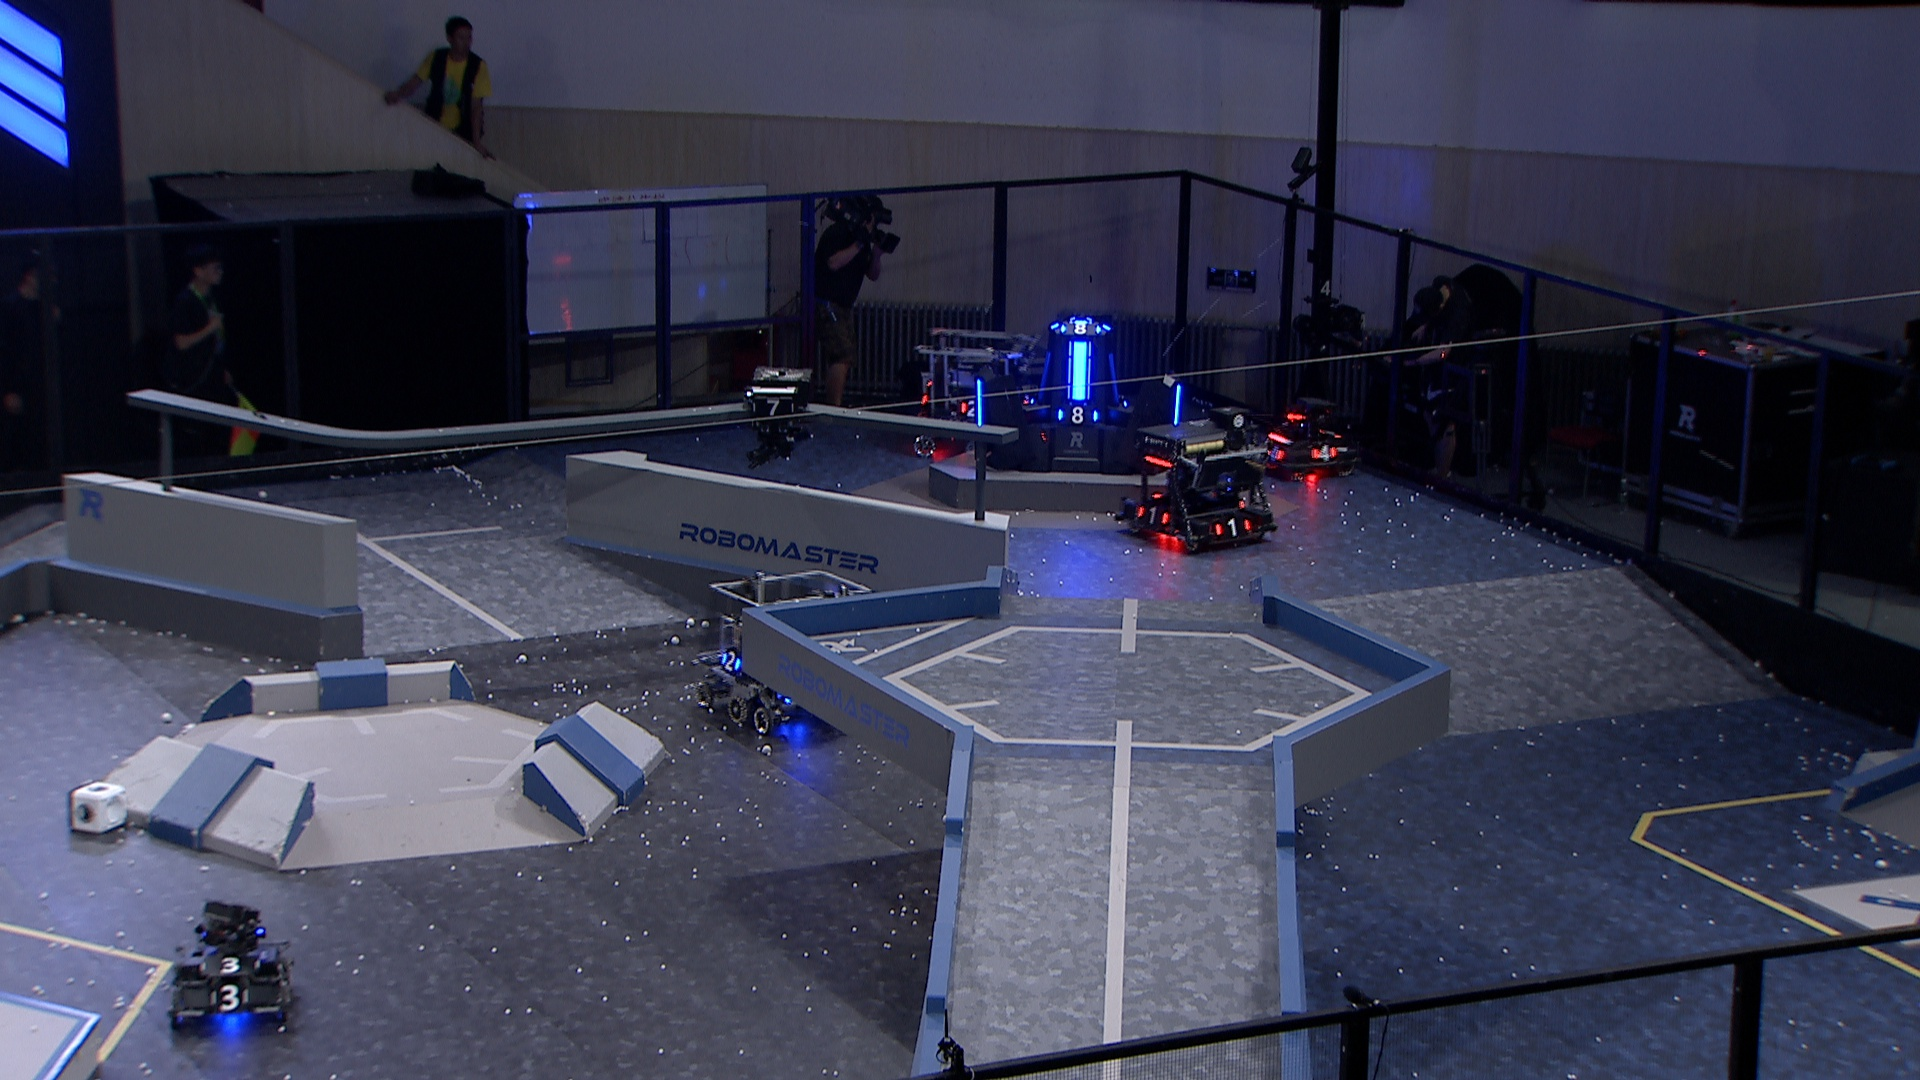armor: (1065, 342, 1092, 404), (196, 951, 262, 975), (204, 982, 251, 1014), (1035, 349, 1054, 406), (1102, 349, 1121, 404), (750, 400, 796, 419), (1215, 514, 1253, 537), (1055, 406, 1100, 425), (1138, 505, 1174, 527), (1058, 318, 1102, 335), (1168, 382, 1183, 427), (975, 376, 986, 427), (1307, 443, 1337, 463), (719, 647, 742, 671), (1265, 442, 1284, 463), (959, 398, 978, 417)
base: (968, 315, 1188, 477)
car: (692, 566, 884, 737), (1117, 410, 1276, 559), (909, 322, 1048, 462), (166, 901, 297, 1033), (1254, 392, 1365, 487)
watcher: (740, 361, 822, 467)
